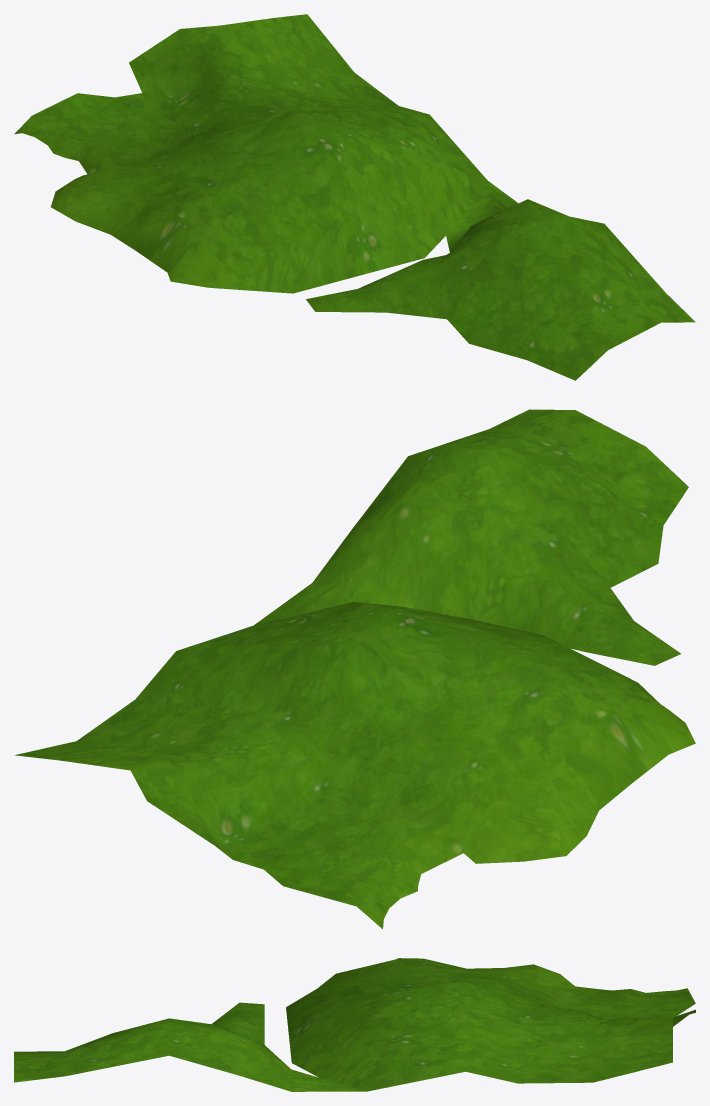
The model's file is Amazon03_Terrain05.FBX.
3 views of the same model, one above another, from view 1: azimuth 30°, elevation 25°; view 2: azimuth 150°, elevation 25°; view 3: azimuth 270°, elevation 25° (orthographic). The views are drawn at different scales.
Visible parts, largest first — view 1: Amazon03_Terrain05; view 2: Amazon03_Terrain05; view 3: Amazon03_Terrain05.
Boxes of the visible parts, bbox=[...] form: Amazon03_Terrain05: bbox=[14, 14, 695, 380]; Amazon03_Terrain05: bbox=[15, 409, 695, 928]; Amazon03_Terrain05: bbox=[14, 958, 695, 1091].
Size of the model in its own units: 7506 by 1771 by 15531.
